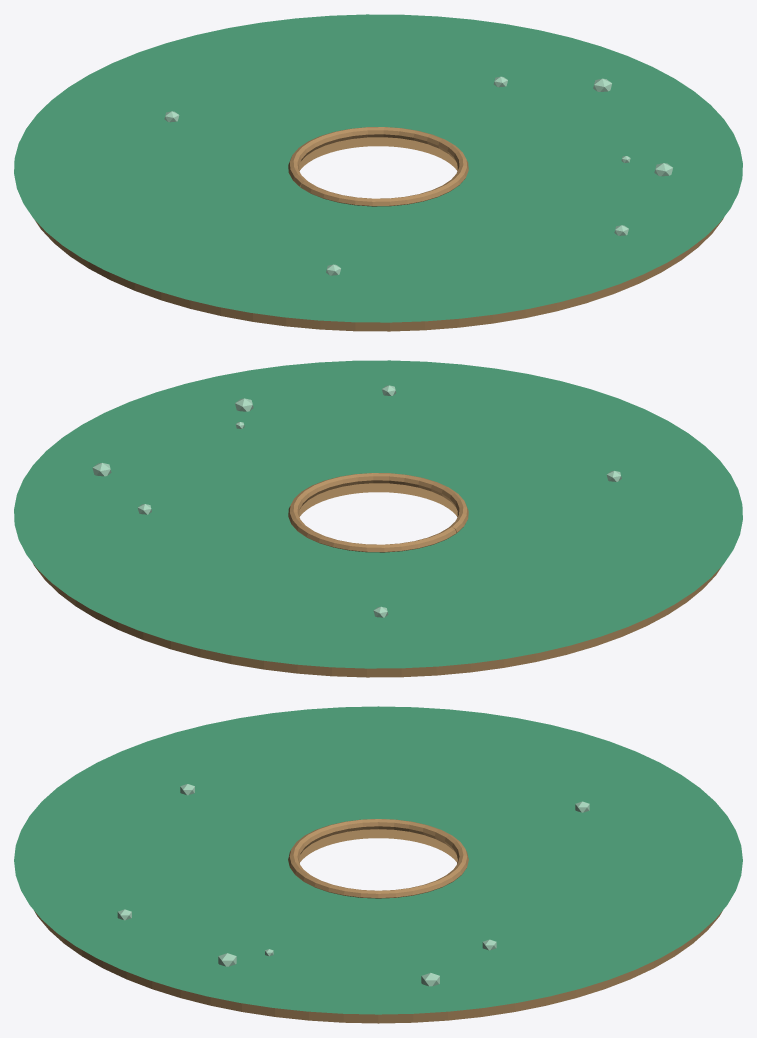
Rendered from goo_jar_deck_2.fbx.
3 renders of one model, top to bottom at view 1: azimuth 30°, elevation 25°; view 2: azimuth 150°, elevation 25°; view 3: azimuth 270°, elevation 25°, orthographic.
Visible parts, largest first — view 1: goo_jar_deck_2; view 2: goo_jar_deck_2; view 3: goo_jar_deck_2.
Part boxes in pixels (x1,y1,x2,y2): goo_jar_deck_2: (14, 14, 742, 331); goo_jar_deck_2: (14, 360, 742, 677); goo_jar_deck_2: (14, 706, 742, 1023).
Bounding box in the file's own units: 53.2 × 1.79 × 53.2.
